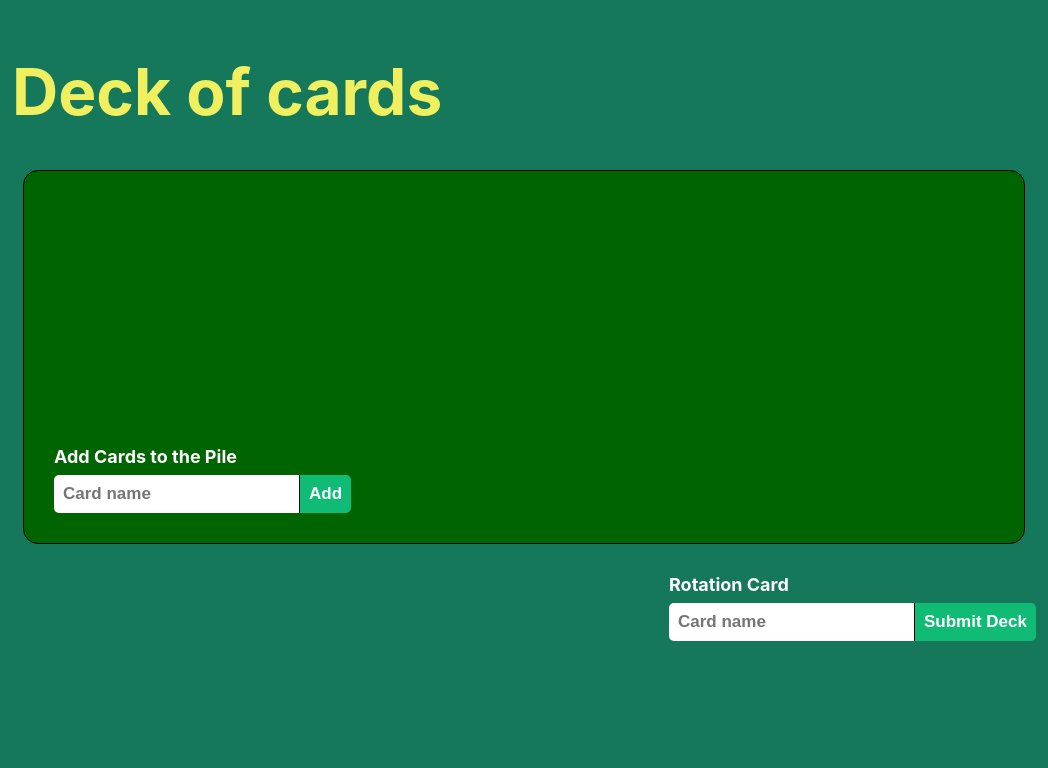
Test: prevents to add an invalid card
Type "1s" into the field labelled "Add Cards to the Pile" at point(176, 494), box [54, 475, 299, 513]
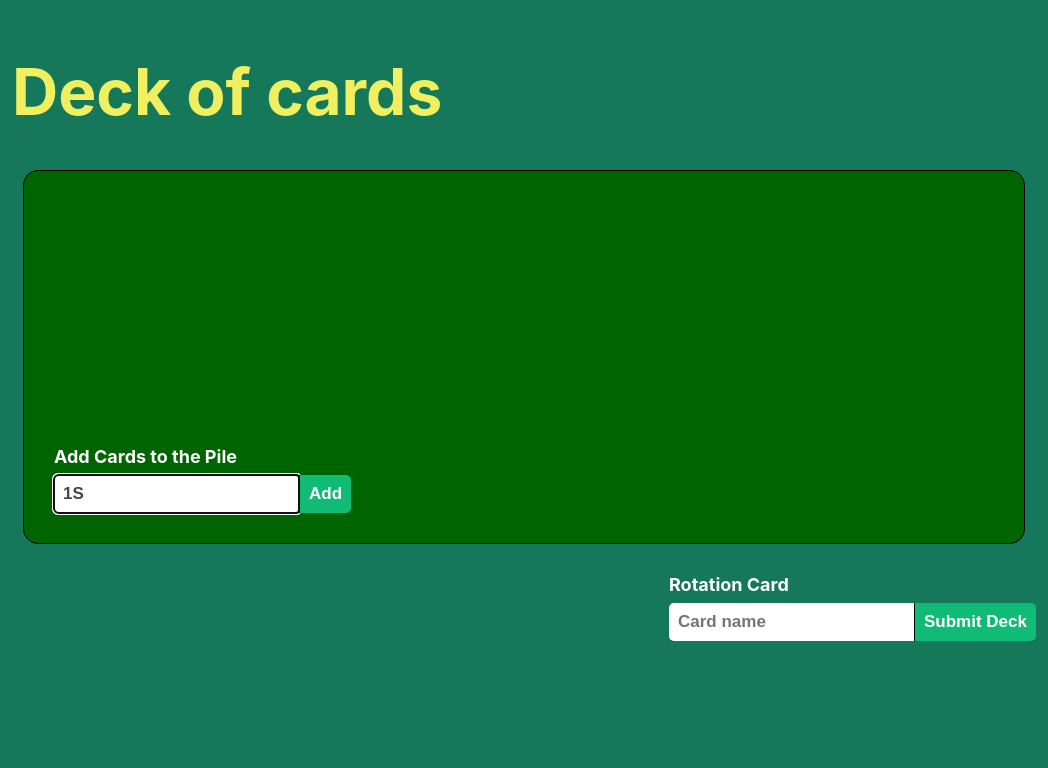
Click the button "Add" at point(325, 494), box [299, 475, 351, 513]
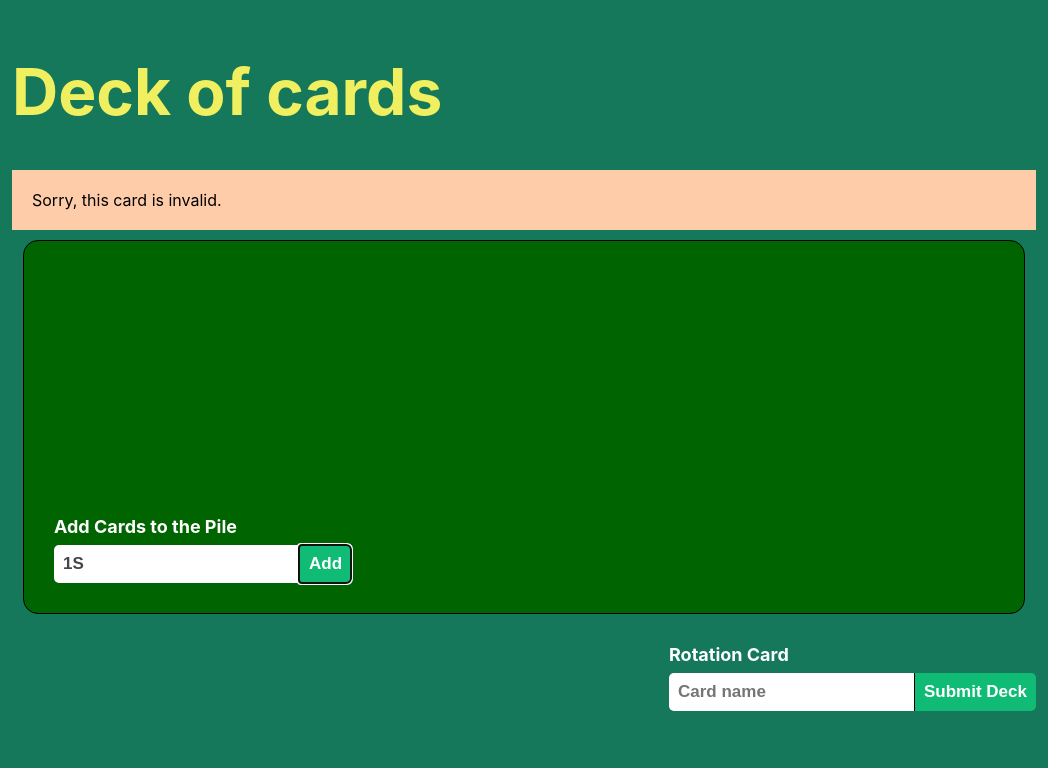
Expected: the text "Sorry, this card is invalid." is shown, [12, 170, 1036, 230]
